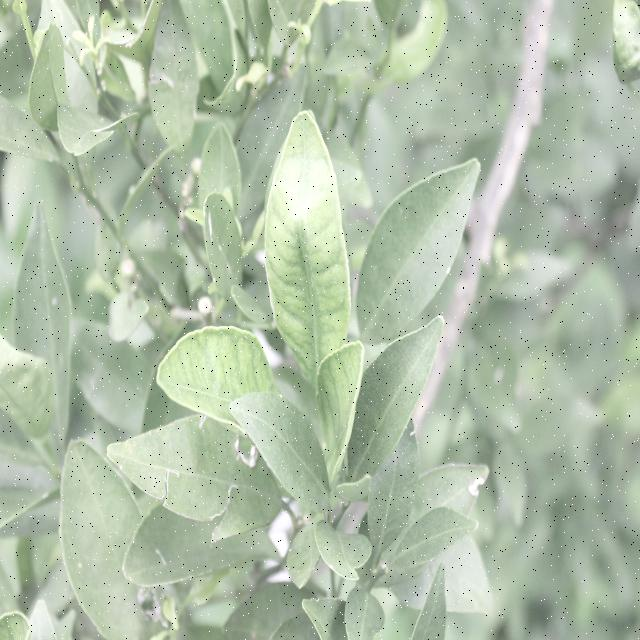greening: (266, 105, 352, 358), (161, 319, 269, 429)
